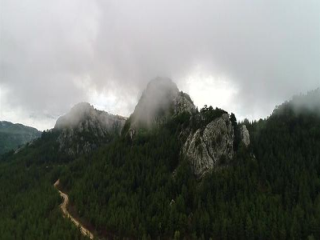smoke: (97, 48, 195, 133)
